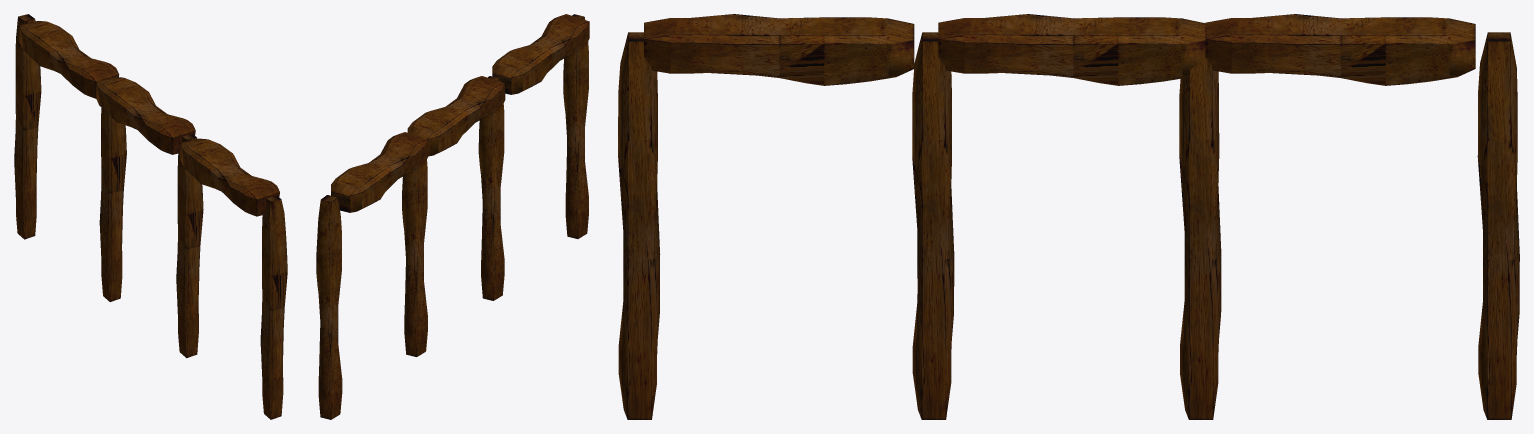
The model's file is Hasira.fbx.
3 renders of one model, left to right at view 1: azimuth 30°, elevation 25°; view 2: azimuth 150°, elevation 25°; view 3: azimuth 270°, elevation 25°, orthographic. The views are drawn at different scales.
Parts seen in each view (by area): view 1: 立方体.104; view 2: 立方体.104; view 3: 立方体.104.
Part boxes in pixels (left/top/right/bottom): 立方体.104: left=14, top=14, right=287, bottom=419; 立方体.104: left=316, top=14, right=589, bottom=419; 立方体.104: left=618, top=14, right=1519, bottom=419.
Bounding box in the file's own units: 71.24 × 435 × 915.
1 material, 1 textured.
